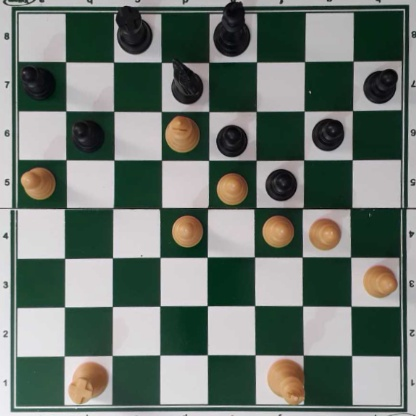black-king: (212, 1, 252, 59)
black-knight: (168, 59, 203, 103)
black-pawn: (362, 67, 399, 104), (20, 62, 56, 100), (69, 117, 105, 152), (214, 120, 248, 156), (311, 116, 345, 151), (264, 166, 297, 201)
black-rook: (114, 4, 155, 53)
white-bishop: (165, 113, 201, 155)
white-king: (266, 358, 306, 406)
white-pawn: (360, 262, 398, 299), (19, 165, 56, 200), (214, 171, 250, 205), (308, 215, 342, 251), (261, 212, 294, 248), (170, 215, 204, 247)
white-rook: (68, 360, 109, 403)
